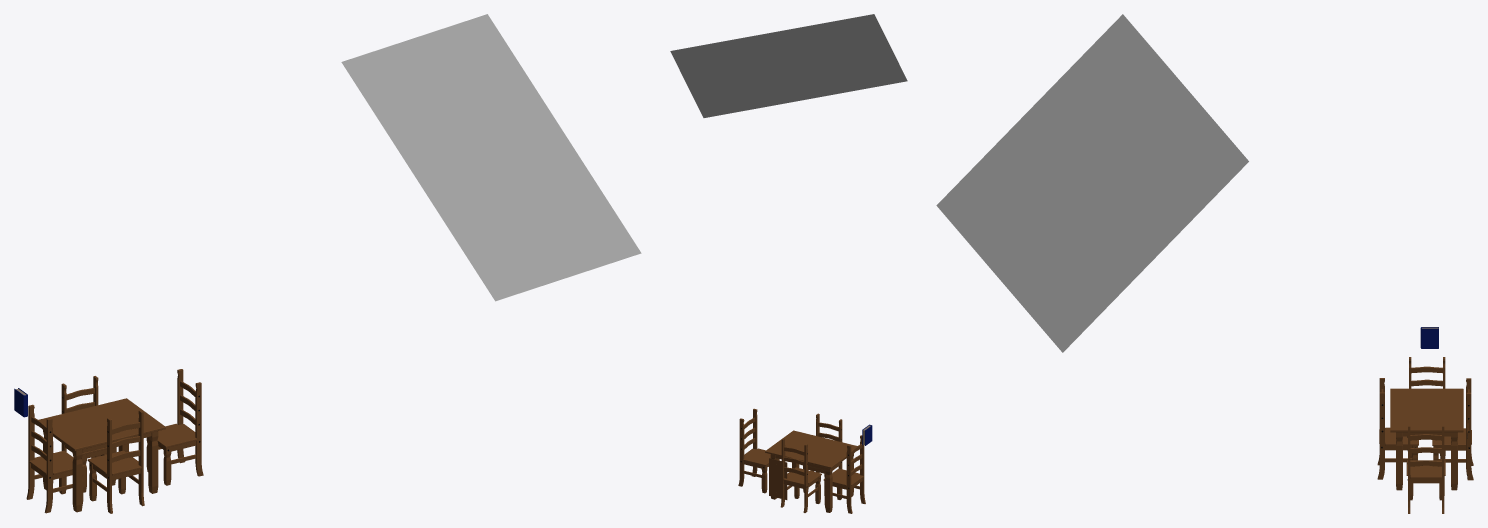
The model's file is Corona Dining Table Set.obj.
3 views of the same model, side by side, from view 1: azimuth 30°, elevation 25°; view 2: azimuth 150°, elevation 25°; view 3: azimuth 270°, elevation 25° (orthographic). The views are drawn at different scales.
Visible parts, largest first — view 1: Plane.001, Cube.003_Cube.006, Cube.000_Cube.031, Cube.004_Cube.009, Cube.008_Cube.032, Cube.009_Cube.033; view 2: Plane.001, Cube.003_Cube.006, Cube.009_Cube.033, Cube.004_Cube.009, Cube.008_Cube.032, Corona_Seconique_Tall_Bookcase.001_Cube.001, Cube.000_Cube.031; view 3: Plane.001, Cube.003_Cube.006, Cube.004_Cube.009, Cube.000_Cube.031, Cube.009_Cube.033, Cube.008_Cube.032.
Boxes of the visible parts, left/top/right/bottom form: Plane.001: left=341, top=14, right=641, bottom=301; Cube.003_Cube.006: left=38, top=398, right=165, bottom=512; Cube.000_Cube.031: left=87, top=410, right=144, bottom=513; Cube.004_Cube.009: left=146, top=369, right=203, bottom=485; Cube.008_Cube.032: left=26, top=404, right=84, bottom=513; Cube.009_Cube.033: left=61, top=376, right=115, bottom=492; Plane.001: left=670, top=14, right=907, bottom=117; Cube.003_Cube.006: left=765, top=430, right=857, bottom=512; Cube.009_Cube.033: left=780, top=438, right=821, bottom=512; Cube.004_Cube.009: left=738, top=408, right=779, bottom=493; Cube.008_Cube.032: left=823, top=435, right=865, bottom=513; Corona_Seconique_Tall_Bookcase.001_Cube.001: left=769, top=458, right=787, bottom=499; Cube.000_Cube.031: left=803, top=413, right=842, bottom=495; Plane.001: left=936, top=14, right=1248, bottom=352; Cube.003_Cube.006: left=1390, top=388, right=1463, bottom=490; Cube.004_Cube.009: left=1406, top=424, right=1445, bottom=513; Cube.000_Cube.031: left=1377, top=378, right=1418, bottom=479; Cube.009_Cube.033: left=1432, top=378, right=1473, bottom=480; Cube.008_Cube.032: left=1409, top=357, right=1445, bottom=458.
Bounding box in the file's own units: 5.11 × 6.1 × 6.
